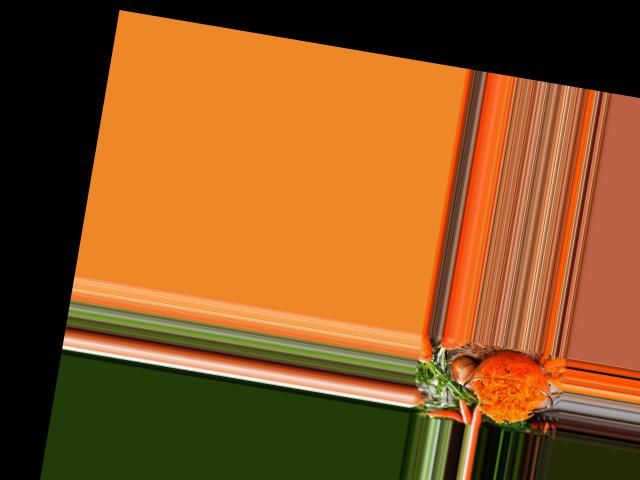carrot: (471, 404, 483, 424)
